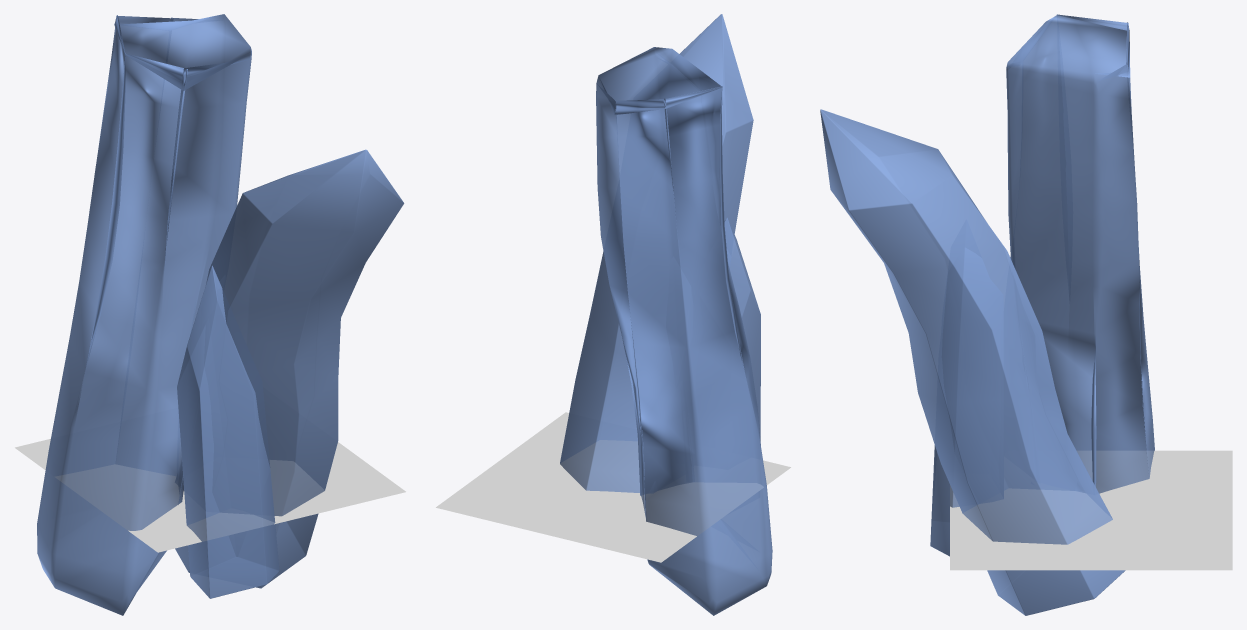
The model's file is Crystals6.fbx.
The picture shows the model from 3 angles, left to right: view 1: azimuth 30°, elevation 25°; view 2: azimuth 150°, elevation 25°; view 3: azimuth 270°, elevation 25°; orthographic projection. The views are drawn at different scales.
Parts seen in each view (by area): view 1: Crystals6|Crystal1|Dupli|1, Crystals6|Crystal3|Dupli|2, Crystals6|Crystal2|Dupli|, Crystals6; view 2: Crystals6|Crystal1|Dupli|1, Crystals6, Crystals6|Crystal3|Dupli|2, Crystals6|Crystal2|Dupli|; view 3: Crystals6|Crystal3|Dupli|2, Crystals6|Crystal1|Dupli|1, Crystals6, Crystals6|Crystal2|Dupli|.
Part boxes in pixels (x1=…): Crystals6|Crystal1|Dupli|1: x1=37, y1=14, x2=251, y2=615; Crystals6|Crystal3|Dupli|2: x1=175, y1=149, x2=404, y2=588; Crystals6|Crystal2|Dupli|: x1=177, y1=265, x2=279, y2=598; Crystals6: x1=15, y1=438, x2=405, y2=552; Crystals6|Crystal1|Dupli|1: x1=596, y1=47, x2=772, y2=615; Crystals6: x1=436, y1=412, x2=790, y2=562; Crystals6|Crystal3|Dupli|2: x1=560, y1=14, x2=753, y2=492; Crystals6|Crystal2|Dupli|: x1=724, y1=218, x2=760, y2=439; Crystals6|Crystal3|Dupli|2: x1=820, y1=109, x2=1125, y2=615; Crystals6|Crystal1|Dupli|1: x1=1006, y1=14, x2=1154, y2=493; Crystals6: x1=950, y1=450, x2=1232, y2=570; Crystals6|Crystal2|Dupli|: x1=930, y1=248, x2=1003, y2=556.
Bounding box in the file's own units: 97.56 × 181 × 122.
